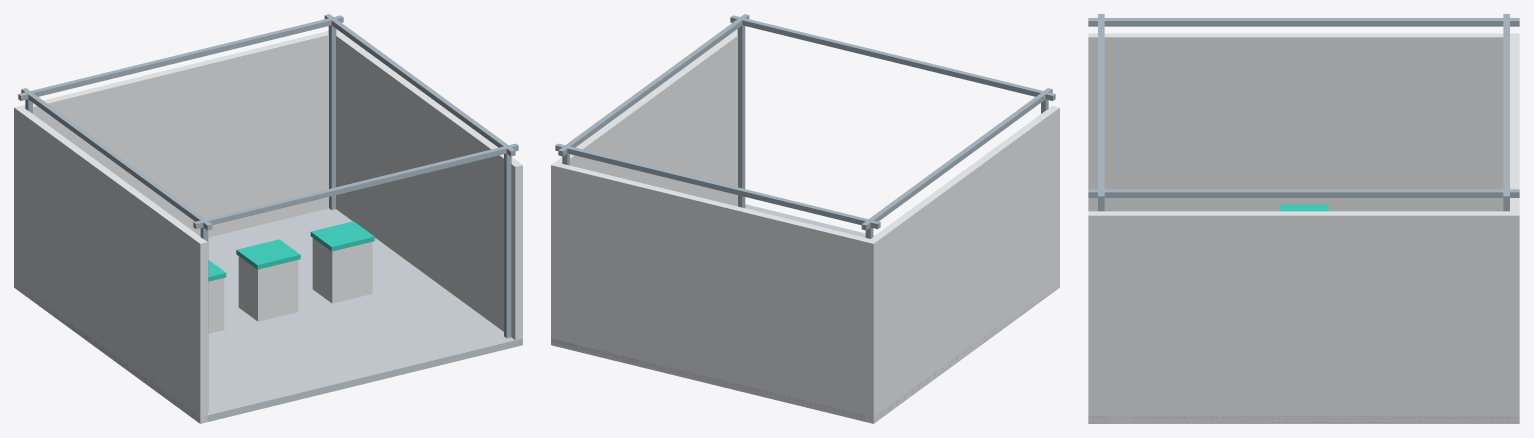
3 views of the same model, side by side, from view 1: azimuth 30°, elevation 25°; view 2: azimuth 150°, elevation 25°; view 3: azimuth 270°, elevation 25° (orthographic). The views are drawn at different scales.
Visible parts, largest first — view 1: Exhibition Booth Concept; view 2: Exhibition Booth Concept; view 3: Exhibition Booth Concept.
Part boxes in pixels (left/top/right/bottom): Exhibition Booth Concept: left=14, top=14, right=522, bottom=423; Exhibition Booth Concept: left=551, top=14, right=1059, bottom=423; Exhibition Booth Concept: left=1088, top=14, right=1519, bottom=423.
Bounding box in the file's own units: 6 × 3.49 × 6.
